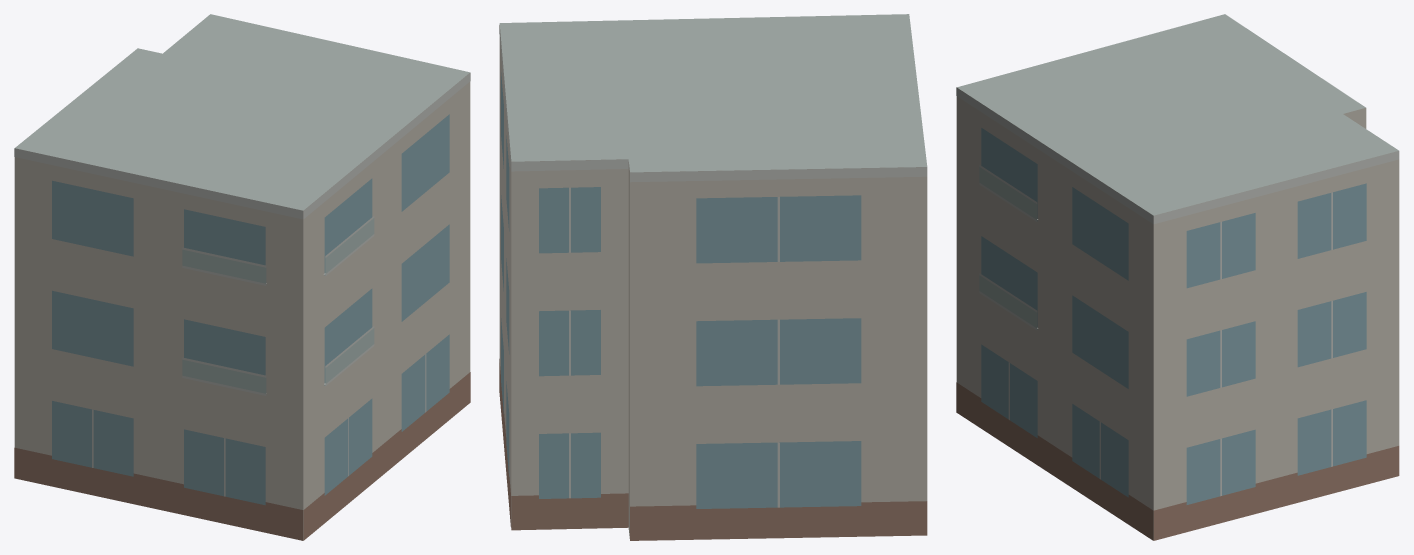
The model's file is survey-upis-32792688.glb.
3 views of the same model, side by side, from view 1: azimuth 30°, elevation 25°; view 2: azimuth 150°, elevation 25°; view 3: azimuth 270°, elevation 25° (orthographic). The views are drawn at different scales.
Parts seen in each view (by area): view 1: survey-upis-32792688.tmp; view 2: survey-upis-32792688.tmp; view 3: survey-upis-32792688.tmp.
Boxes of the visible parts, <box> form: survey-upis-32792688.tmp: <box>14,14,470,540</box>; survey-upis-32792688.tmp: <box>499,14,927,540</box>; survey-upis-32792688.tmp: <box>956,14,1399,540</box>.
Bounding box in the file's own units: 12.18 × 9.15 × 11.3.
